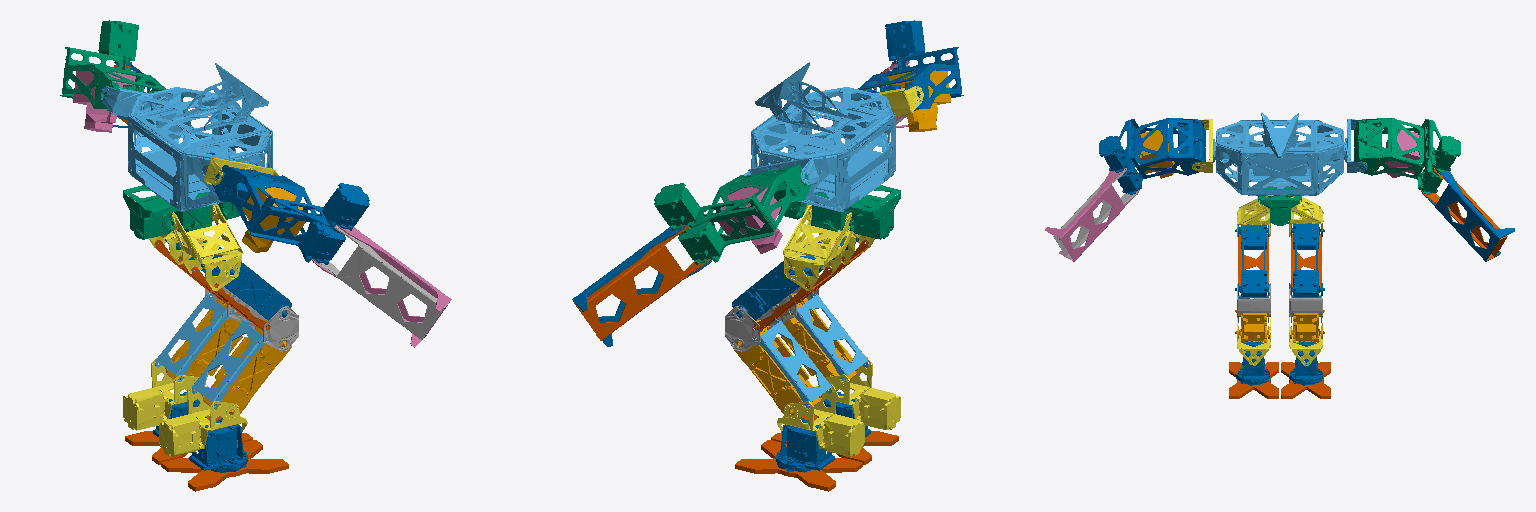
--- What the picture shows (computed from the rendered views, not written in the file) ---
3 views of the same robot in one strip: view 1: azimuth 30°, elevation 25°; view 2: azimuth 150°, elevation 25°; view 3: azimuth 270°, elevation 25° (orthographic).
Model ginko with 49 links and 48 joints (33 revolute, 15 fixed), rooted at root_link, posed all joints at 0.
Visible links, largest first — view 1: body_link0, arm_r_link1, arm_l_link1, arm_r_link3, leg_r_link6, leg_r_link0, body_link1, leg_l_link6, leg_r_link4, leg_l_link5, leg_r_link5, leg_r_link8 (+12 smaller); view 2: body_link0, arm_l_link1, arm_r_link1, arm_l_link3, body_link1, leg_l_link6, leg_l_link0, leg_r_link6, leg_l_link4, leg_l_link5, leg_r_link5, leg_l_link8 (+11 smaller); view 3: body_link0, arm_l_link1, arm_r_link1, arm_r_link2, arm_l_link2, leg_l_link1, leg_r_link1, leg_l_link8, leg_r_link8, arm_l_link3, body_link1, arm_r_link3 (+12 smaller).
Link boxes in pixels (x1,y1,x2,y2): body_link0: [128, 63, 272, 211]; arm_r_link1: [212, 165, 369, 264]; arm_l_link1: [60, 20, 165, 110]; arm_r_link3: [313, 225, 448, 339]; leg_r_link6: [159, 384, 247, 456]; leg_r_link0: [172, 204, 243, 290]; body_link1: [123, 185, 245, 239]; leg_l_link6: [123, 358, 198, 430]; leg_r_link4: [201, 320, 291, 417]; leg_l_link5: [155, 293, 233, 381]; leg_r_link5: [192, 320, 270, 408]; leg_r_link8: [161, 440, 288, 491]; body_link0: [751, 62, 895, 211]; arm_l_link1: [654, 164, 811, 264]; arm_r_link1: [858, 20, 963, 110]; arm_l_link3: [574, 225, 710, 340]; body_link1: [778, 185, 900, 239]; leg_l_link6: [777, 384, 864, 456]; leg_l_link0: [783, 205, 852, 290]; leg_r_link6: [826, 357, 900, 429]; leg_l_link4: [731, 320, 822, 414]; leg_l_link5: [753, 319, 832, 408]; leg_r_link5: [790, 293, 868, 381]; leg_l_link8: [735, 440, 862, 491]; body_link0: [1213, 113, 1346, 195]; arm_l_link1: [1354, 118, 1460, 194]; arm_r_link1: [1099, 118, 1205, 194]; arm_r_link2: [1045, 168, 1139, 261]; arm_l_link2: [1421, 168, 1514, 261]; leg_l_link1: [1291, 224, 1324, 296]; leg_r_link1: [1235, 224, 1268, 296]; leg_l_link8: [1281, 362, 1330, 398]; leg_r_link8: [1229, 362, 1278, 398]; arm_l_link3: [1422, 168, 1507, 260]; body_link1: [1258, 182, 1301, 225]; arm_r_link3: [1053, 168, 1137, 259].
Bounding box of the posed robot: 0.2246 × 0.7542 × 0.4882 m (x, y, z).
30 mesh visuals loaded from 25 distinct referenced files (25 OBJ).

robot.urdf — ginko:
<?xml version="1.0" ?>
<!-- =================================================================================== -->
<!-- |    This document was autogenerated by xacro from ./ginko.xacro                  | -->
<!-- |    EDITING THIS FILE BY HAND IS NOT RECOMMENDED                                 | -->
<!-- =================================================================================== -->
<robot name="ginko" xmlns:xacro="http://www.ros.org/wiki/xacro">
  <link name="root_link"/>
  <joint name="root_joint" type="fixed">
    <parent link="root_link"/>
    <child link="body_link0"/>
    <origin rpy="0 0 0" xyz="0 0 0"/>
  </joint>
  <!-- chest -->
  <link name="body_link0">
    <collision>
      <origin rpy="0 0 0" xyz="0 0 0"/>
      <geometry>
        <mesh filename="package://ginko_description/meshes/ginko_rs406/stl/link00_chest.stl"/>
      </geometry>
    </collision>
    <visual>
      <origin rpy="0 0 0" xyz="0 0 0"/>
      <geometry>
        <mesh filename="package://ginko_description/meshes/ginko_rs406/obj/link00_chest.obj"/>
      </geometry>
    </visual>
    <inertial>
      <mass value="1.41502697"/>
      <origin rpy="0 0 0" xyz="0.00008301 0.00000908 0.03819562"/>
      <inertia ixx="0.00248548" ixy="-0.00000074" ixz="0.000003761" iyy="0.00121388" iyz="-0.00000042" izz="0.00287756"/>
    </inertial>
  </link>
  <!-- Joint1 -->
  <joint name="body_joint1" type="revolute">
    <parent link="body_link0"/>
    <child link="body_link1"/>
    <origin rpy="0 0 0" xyz="0.0 0 0"/>
    <axis xyz="0 0 1"/>
    <limit effort="1000.0" lower="-2.6" upper="2.6" velocity="10.0"/>
    <dynamics damping="0.1" friction="0.1"/>
  </joint>
  <!-- waist -->
  <link name="body_link1">
    <collision>
      <origin rpy="0 0 0" xyz="0 0 0"/>
      <geometry>
        <mesh filename="package://ginko_description/meshes/ginko_rs406/stl/link01_waist.stl"/>
      </geometry>
    </collision>
    <visual>
      <origin rpy="0 0 0" xyz="0 0 0"/>
      <geometry>
        <mesh filename="package://ginko_description/meshes/ginko_rs406/obj/link01_waist.obj"/>
      </geometry>
    </visual>
    <inertial>
      <mass value="0.33312665"/>
      <origin rpy="0 0 0" xyz="-0.01135452 -0.00000134 -0.02720222"/>
      <inertia ixx="0.00015328" ixy="0.00000003" ixz="0.00001078" iyy="0.00073745" iyz="0.00000000" izz="0.00073107"/>
    </inertial>
  </link>
  <gazebo reference="body_link0">
    <kp>1000000.0</kp>
    <kd>100.0</kd>
    <mu1>0.1</mu1>
    <maxVel>10.0</maxVel>
    <minDepth>0.0001</minDepth>
    <maxContacts>6</maxContacts>
    <selfCollide>false</selfCollide>
    <dampingFactor>0.00</dampingFactor>
  </gazebo>
  <gazebo reference="body_joint1">
    <implicitSpringDamper>1</implicitSpringDamper>
  </gazebo>
  <transmission name="body_joint1_trans">
    <type>transmission_interface/SimpleTransmission</type>
    <joint name="body_joint1">
      <hardwareInterface>hardware_interface/PositionJointInterface</hardwareInterface>
    </joint>
    <actuator name="body_joint1_motor">
      <hardwareInterface>hardware_interface/PositionJointInterface</hardwareInterface>
      <mechanicalReduction>1</mechanicalReduction>
    </actuator>
  </transmission>
  <gazebo reference="body_link1">
    <kp>1000000.0</kp>
    <kd>100.0</kd>
    <mu1>0.1</mu1>
    <maxVel>10.0</maxVel>
    <minDepth>0.0001</minDepth>
    <maxContacts>6</maxContacts>
    <selfCollide>false</selfCollide>
    <dampingFactor>0.00</dampingFactor>
  </gazebo>
  <!-- Link conencts from body. Femoral first. -->
  <joint name="leg_r_joint0" type="revolute">
    <parent link="body_link1"/>
    <child link="leg_r_link0"/>
    <origin rpy="0 0 0" xyz="0.0205 0.0 -0.0409"/>
    <axis xyz="1 0 0"/>
    <limit effort="1000.0" lower="-1.0" upper="0.8" velocity="10.0"/>
    <dynamics damping="0.0" friction="0.3"/>
  </joint>
  <link name="leg_r_link0">
    <collision>
      <origin rpy="0 0 0" xyz="0 0 0"/>
      <geometry>
        <mesh filename="package://ginko_description/meshes/ginko_rs406/stl/link02_r_femoral.stl"/>
      </geometry>
    </collision>
    <visual>
      <origin rpy="0 0 0" xyz="0 0 0"/>
      <geometry>
        <mesh filename="package://ginko_description/meshes/ginko_rs406/obj/link02_r_femoral.obj"/>
      </geometry>
    </visual>
    <inertial>
      <mass value="0.03431457"/>
      <origin rpy="0 0 0" xyz="-0.02905818 -0.03723481 -0.02604954"/>
      <inertia ixx="0.00002441" ixy="0.00000001" ixz="0.00000021" iyy="0.00002285" iyz="0.00000391" izz="0.00002980"/>
    </inertial>
  </link>
  <!-- parallel link (upper-1st) -->
  <joint name="leg_r_joint1" type="revolute">
    <parent link="leg_r_link0"/>
    <child link="leg_r_link1"/>
    <origin rpy="0 0.7854 0" xyz="-0.0176 -0.0175 -0.0481"/>
    <axis xyz="0 1 0"/>
    <limit effort="1000.0" lower="-0.7854" upper="1.3" velocity="10.0"/>
    <dynamics damping="0.0" friction="0.3"/>
  </joint>
  <link name="leg_r_link1">
    <collision>
      <origin rpy="0 0 0" xyz="0 0 0"/>
      <geometry>
        <mesh filename="package://ginko_description/meshes/ginko_rs406/stl/link03_r_leg01.stl"/>
      </geometry>
    </collision>
    <visual>
      <origin rpy="0 0 0" xyz="0 0 0"/>
      <geometry>
        <mesh filename="package://ginko_description/meshes/ginko_rs406/obj/link03_r_leg01.obj"/>
      </geometry>
    </visual>
    <inertial>
      <mass value="0.15115113"/>
      <origin rpy="0 0 0" xyz="0.05000000 -0.02587267 0.00000000"/>
      <inertia ixx="0.00003721" ixy="0.00000000" ixz="0.00000000" iyy="0.00026035" iyz="0.00000000" izz="0.00028077"/>
    </inertial>
  </link>
  <joint name="leg_r_joint3" type="revolute">
    <parent link="leg_r_link1"/>
    <child link="leg_r_link3"/>
    <origin rpy="0 -0.7854 0" xyz="0.1 0.0 0.0"/>
    <axis xyz="0 -1 0"/>
    <limit effort="1000.0" lower="-0.7854" upper="1.3" velocity="10.0"/>
    <dynamics damping="0.0" friction="0.3"/>
    <mimic joint="leg_r_joint1" multiplier="1" offset="0"/>
  </joint>
  <!-- parallel link (upper-2nd) -->
  <joint name="leg_r_joint2" type="revolute">
    <parent link="leg_r_link0"/>
    <child link="leg_r_link2"/>
    <origin rpy="0 0.7854 0" xyz="-0.0389 -0.0175 -0.06015"/>
    <axis xyz="0 1 0"/>
    <limit effort="1000.0" lower="-0.7854" upper="1.3" velocity="10.0"/>
    <dynamics damping="0.0" friction="0.0"/>
    <mimic joint="leg_r_joint1" multiplier="1" offset="0"/>
  </joint>
  <link name="leg_r_link2">
    <collision>
      <origin rpy="0 0 0" xyz="0 0 0"/>
      <geometry>
        <mesh filename="package://ginko_description/meshes/ginko_rs406/stl/link04_r_leg02.stl"/>
      </geometry>
    </collision>
    <visual>
      <origin rpy="0 0 0" xyz="0 0 0"/>
      <geometry>
        <mesh filename="package://ginko_description/meshes/ginko_rs406/obj/link04_r_leg02.obj"/>
      </geometry>
    </visual>
    <inertial>
      <mass value="0.01646643"/>
      <origin rpy="0 0 0" xyz="0.05000000 -0.02495100 -0.00491150"/>
      <inertia ixx="0.00000640" ixy="0.00000000" ixz="0.00000000" iyy="0.00001642" iyz="0.00000000" izz="0.00002264"/>
    </inertial>
  </link>
  <joint name="close_leg_r_joint0" type="revolute">
    <parent link="leg_r_link2"/>
    <child link="dummy0_leg_r_link3"/>
    <origin rpy="0 -0.7854 0" xyz="0.1 0.0 0.0"/>
    <axis xyz="0 -1 0"/>
    <limit effort="1000.0" lower="-0.7854" upper="1.3" velocity="10.0"/>
    <dynamics damping="0.0" friction="0.0"/>
    <mimic joint="leg_r_joint1" multiplier="1" offset="0"/>
  </joint>
  <link name="dummy0_leg_r_link3">
    <inertial>
      <mass value="0.00001"/>
      <origin rpy="0 0 0" xyz="-0.021 0 -0.012"/>
      <inertia ixx="0.00000001" ixy="0.00000000" ixz="0.00000000" iyy="0.00000001" iyz="0.00000000" izz="0.00000001"/>
    </inertial>
  </link>
  <!-- knee -->
  <link name="leg_r_link3">
    <collision>
      <origin rpy="0 0 0" xyz="0 0 0"/>
      <geometry>
        <mesh filename="package://ginko_description/meshes/ginko_rs406/stl/link05_r_knee.stl"/>
      </geometry>
    </collision>
    <visual>
      <origin rpy="0 0 0" xyz="0 0 0"/>
      <geometry>
        <mesh filename="package://ginko_description/meshes/ginko_rs406/obj/link05_r_knee.obj"/>
      </geometry>
    </visual>
    <inertial>
      <mass value="0.01781176"/>
      <origin rpy="0 0 0" xyz="0.00393357 -0.02364163 -0.01930000"/>
      <inertia ixx="0.00001301" ixy="-0.00000008" ixz="0.00000000" iyy="0.00000700" iyz="0.00000000" izz="0.00001388"/>
    </inertial>
  </link>
  <!-- parallel link (lower-1st) -->
  <joint name="leg_r_joint4" type="revolute">
    <parent link="leg_r_link3"/>
    <child link="leg_r_link4"/>
    <origin rpy="0 2.3562 0" xyz="0 0 -0.0386"/>
    <axis xyz="0 1 0"/>
    <limit effort="1000.0" lower="-1.3" upper="0.7854" velocity="10.0"/>
    <dynamics damping="0.0" friction="0.3"/>
  </joint>
  <link name="leg_r_link4">
    <collision>
      <origin rpy="0 0 0" xyz="0 0 0"/>
      <geometry>
        <mesh filename="package://ginko_description/meshes/ginko_rs406/stl/link03_r_leg01.stl"/>
      </geometry>
    </collision>
    <visual>
      <origin rpy="0 0 0" xyz="0 0 0"/>
      <geometry>
        <mesh filename="package://ginko_description/meshes/ginko_rs406/obj/link03_r_leg01.obj"/>
      </geometry>
    </visual>
    <inertial>
      <mass value="0.15115113"/>
      <origin rpy="0 0 0" xyz="0.05000000 -0.02587267 0.00000000"/>
      <inertia ixx="0.00003721" ixy="0.00000000" ixz="0.00000000" iyy="0.00026035" iyz="0.00000000" izz="0.00028077"/>
    </inertial>
  </link>
  <joint name="leg_r_joint6" type="revolute">
    <parent link="leg_r_link4"/>
    <child link="leg_r_link6"/>
    <origin rpy="0 -2.3562 0" xyz="0.1 0.0 0.0"/>
    <axis xyz="0 -1 0"/>
    <limit effort="1000.0" lower="-1.3" upper="0.7854" velocity="10.0"/>
    <dynamics damping="0.0" friction="0.3"/>
    <mimic joint="leg_r_joint4" multiplier="1" offset="0"/>
  </joint>
  <!-- parallel link (lower-2nd) -->
  <joint name="leg_r_joint5" type="revolute">
    <parent link="leg_r_link3"/>
    <child link="leg_r_link5"/>
    <origin rpy="0 2.3562 0" xyz="-0.0213 0 -0.02655"/>
    <axis xyz="0 1 0"/>
    <limit effort="0.0" lower="-1.3" upper="0.7854" velocity="10.0"/>
    <dynamics damping="0.0" friction="0.0"/>
    <mimic joint="leg_r_joint4" multiplier="1" offset="0"/>
  </joint>
  <link name="leg_r_link5">
    <collision>
      <origin rpy="0 0 0" xyz="0 0 0"/>
      <geometry>
        <mesh filename="package://ginko_description/meshes/ginko_rs406/stl/link04_r_leg02.stl"/>
      </geometry>
    </collision>
    <visual>
      <origin rpy="0 0 0" xyz="0 0 0"/>
      <geometry>
        <mesh filename="package://ginko_description/meshes/ginko_rs406/obj/link04_r_leg02.obj"/>
      </geometry>
    </visual>
    <inertial>
      <mass value="0.01646643"/>
      <origin rpy="0 0 0" xyz="0.05000000 -0.02495100 -0.00491150"/>
      <inertia ixx="0.00000640" ixy="0.00000000" ixz="0.00000000" iyy="0.00001642" iyz="0.00000000" izz="0.00002264"/>
    </inertial>
  </link>
  <joint name="close_leg_r_joint1" type="revolute">
    <parent link="leg_r_link5"/>
    <child link="dummy2_leg_r_link6"/>
    <origin rpy="0 -2.3562 0" xyz="0.1 0.0 0.0"/>
    <axis xyz="0 -1 0"/>
    <limit effort="0.0" lower="-1.3" upper="0.7854" velocity="10.0"/>
    <dynamics damping="0.0" friction="0.0"/>
    <mimic joint="leg_r_joint4" multiplier="1" offset="0"/>
  </joint>
  <link name="dummy2_leg_r_link6">
    <inertial>
      <mass value="0.00001"/>
      <origin rpy="0 0 0" xyz="-0.021 0 0.012"/>
      <inertia ixx="0.00000001" ixy="0.00000000" ixz="0.00000000" iyy="0.00000001" iyz="0.00000000" izz="0.00000001"/>
    </inertial>
  </link>
  <!-- toe -->
  <link name="leg_r_link6">
    <collision>
      <origin rpy="0 0 0" xyz="0 0 0"/>
      <geometry>
        <mesh filename="package://ginko_description/meshes/ginko_rs406/stl/link06_r_toe01.stl"/>
      </geometry>
    </collision>
    <visual>
      <origin rpy="0 0 0" xyz="0 0 0"/>
      <geometry>
        <mesh filename="package://ginko_description/meshes/ginko_rs406/obj/link06_r_toe01.obj"/>
      </geometry>
    </visual>
    <inertial>
      <mass value="0.08799204"/>
      <origin rpy="0 0 0" xyz="-0.04166125 -0.02463880 -0.02586249"/>
      <inertia ixx="0.00002815" ixy="0.00000041" ixz="0.00000980" iyy="0.00006846" iyz="0.00000026" izz="0.00006529"/>
    </inertial>
  </link>
  <joint name="leg_r_joint7" type="revolute">
    <parent link="leg_r_link6"/>
    <child link="leg_r_link7"/>
    <origin rpy="0 0 0" xyz="-0.028 -0.02475 -0.0391"/>
    <axis xyz="-1 0 0"/>
    <limit effort="1000.0" lower="-1.6" upper="1.6" velocity="10.0"/>
    <dynamics damping="0.0" friction="0.3"/>
  </joint>
  <link name="leg_r_link7">
    <collision>
      <origin rpy="0 0 0" xyz="0 0 0"/>
      <geometry>
        <mesh filename="package://ginko_description/meshes/ginko_rs406/stl/link07_r_toe02.stl"/>
      </geometry>
    </collision>
    <visual>
      <origin rpy="0 0 0" xyz="0 0 0"/>
      <geometry>
        <mesh filename="package://ginko_description/meshes/ginko_rs406/obj/link07_r_toe02.obj"/>
      </geometry>
    </visual>
    <inertial>
      <mass value="0.10920041"/>
      <origin rpy="0 0 0" xyz="0.02658756 -0.00000053 -0.01782468"/>
      <inertia ixx="0.00003853" ixy="0.00000000" ixz="-0.00000479" iyy="0.00005192" iyz="0.00000000" izz="0.00003521"/>
    </inertial>
  </link>
  <joint name="leg_r_joint8" type="revolute">
    <parent link="leg_r_link7"/>
    <child link="leg_r_link8"/>
    <origin rpy="0 0 0" xyz="0.0342 0 -0.04"/>
    <axis xyz="0 0 1"/>
    <limit effort="1000.0" lower="-2.6" upper="2.6" velocity="10.0"/>
    <dynamics damping="0.0" friction="0.3"/>
  </joint>
  <link name="leg_r_link8">
    <collision>
      <origin rpy="0 0 0" xyz="0 0 -0.003"/>
      <geometry>
        <box size="0.128 0.08 0.006"/>
      </geometry>
    </collision>
    <visual>
      <origin rpy="0 0 0" xyz="0 0 0"/>
      <geometry>
        <mesh filename="package://ginko_description/meshes/ginko_rs406/obj/link08_r_toe03.obj"/>
      </geometry>
    </visual>
    <inertial>
      <mass value="0.05363111"/>
      <origin rpy="0 0 0" xyz="0.00000000 0.00000000 -0.00269342"/>
      <inertia ixx="0.00002877" ixy="0.00000000" ixz="0.00000000" iyy="0.00007083" iyz="-0.00000000" izz="0.00009934"/>
    </inertial>
  </link>
  <joint name="leg_r_toe_joint0" type="fixed">
    <parent link="leg_r_link8"/>
    <child link="leg_r_toe_link0"/>
    <origin rpy="0 0 0" xyz="0.064 0.040 -0.005"/>
  </joint>
  <link name="leg_r_toe_link0"/>
  <joint name="leg_r_toe_joint1" type="fixed">
    <parent link="leg_r_link8"/>
    <child link="leg_r_toe_link1"/>
    <origin rpy="0 0 0" xyz="-0.064 0.040 -0.005"/>
  </joint>
  <link name="leg_r_toe_link1"/>
  <joint name="leg_r_toe_joint2" type="fixed">
    <parent link="leg_r_link8"/>
    <child link="leg_r_toe_link2"/>
    <origin rpy="0 0 0" xyz="-0.064 -0.040 -0.005"/>
  </joint>
  <link name="leg_r_toe_link2"/>
  <joint name="leg_r_toe_joint3" type="fixed">
    <parent link="leg_r_link8"/>
    <child link="leg_r_toe_link3"/>
    <origin rpy="0 0 0" xyz="0.064 -0.040 -0.005"/>
  </joint>
  <link name="leg_r_toe_link3"/>
  <joint name="leg_r_toe_center_joint" type="fixed">
    <parent link="leg_r_link8"/>
    <child link="leg_r_toe_center"/>
    <origin rpy="0 0 0" xyz="0.0 0.0 -0.005"/>
  </joint>
  <link name="leg_r_toe_center"/>
  <gazebo reference="leg_r_link0">
    <kp>1000000.0</kp>
    <kd>100.0</kd>
    <mu1>0.2</mu1>
    <maxVel>10.0</maxVel>
    <minDepth>0.0001</minDepth>
    <maxContacts>6</maxContacts>
    <selfCollide>false</selfCollide>
    <dampingFactor>0.00</dampingFactor>
  </gazebo>
  <gazebo reference="leg_r_link1">
    <kp>1000000.0</kp>
    <kd>100.0</kd>
    <mu1>0.2</mu1>
    <maxVel>10.0</maxVel>
    <minDepth>0.0001</minDepth>
    <maxContacts>6</maxContacts>
    <selfCollide>false</selfCollide>
    <dampingFactor>0.00</dampingFactor>
  </gazebo>
  <gazebo reference="leg_r_link3">
    <kp>1000000.0</kp>
    <kd>100.0</kd>
    <mu1>0.2</mu1>
    <maxVel>10.0</maxVel>
    <minDepth>0.0001</minDepth>
    <maxContacts>6</maxContacts>
    <selfCollide>false</selfCollide>
    <dampingFactor>0.00</dampingFactor>
  </gazebo>
  <gazebo reference="leg_r_link4">
    <kp>1000000.0</kp>
    <kd>100.0</kd>
    <mu1>0.2</mu1>
    <maxVel>10.0</maxVel>
    <minDepth>0.0001</minDepth>
    <maxContacts>6</maxContacts>
    <selfCollide>false</selfCollide>
    <dampingFactor>0.00</dampingFactor>
  </gazebo>
  <gazebo reference="leg_r_link6">
    <kp>1000000.0</kp>
    <kd>100.0</kd>
    <mu1>0.2</mu1>
    <maxVel>10.0</maxVel>
    <minDepth>0.0001</minDepth>
    <maxContacts>6</maxContacts>
    <selfCollide>false</selfCollide>
    <dampingFactor>0.00</dampingFactor>
  </gazebo>
  <gazebo reference="leg_r_link7">
    <kp>1000000.0</kp>
    <kd>100.0</kd>
    <mu1>0.2</mu1>
    <maxVel>10.0</maxVel>
    <minDepth>0.0001</minDepth>
    <maxContacts>6</maxContacts>
    <selfCollide>false</selfCollide>
    <dampingFactor>0.00</dampingFactor>
  </gazebo>
  <!-- <xacro:default_link_collision link_name="leg_r_link8" friction="1.0"/> -->
  <gazebo reference="leg_r_link8">
    <kp>2000000.0</kp>
    <kd>200.0</kd>
    <mu1>1.0</mu1>
    <maxVel>1.0</maxVel>
    <minDepth>0.0001</minDepth>
    <maxContacts>5</maxContacts>
    <selfCollide>true</selfCollide>
    <dampingFactor>0.0</dampingFactor>
  </gazebo>
  <gazebo reference="leg_r_joint0">
    <implicitSpringDamper>1</implicitSpringDamper>
  </gazebo>
  <transmission name="leg_r_joint0_trans">
    <type>transmission_interface/SimpleTransmission</type>
    <joint name="leg_r_joint0">
      <hardwareInterface>hardware_interface/PositionJointInterface</hardwareInterface>
    </joint>
    <actuator name="leg_r_joint0_motor">
      <hardwareInterface>hardware_interface/PositionJointInterface</hardwareInterface>
      <mechanicalReduction>1</mechanicalReduction>
    </actuator>
  </transmission>
  <gazebo reference="leg_r_joint1">
    <implicitSpringDamper>1</implicitSpringDamper>
  </gazebo>
  <transmission name="leg_r_joint1_trans">
    <type>transmission_interface/SimpleTransmission</type>
    <joint name="leg_r_joint1">
      <hardwareInterface>hardware_interface/PositionJointInterface</hardwareInterface>
    </joint>
    <actuator name="leg_r_joint1_motor">
      <hardwareInterface>hardware_interface/PositionJointInterface</hardwareInterface>
      <mechanicalReduction>1</mechanicalReduction>
    </actuator>
  </transmission>
  <gazebo reference="leg_r_joint3">
    <implicitSpringDamper>1</implicitSpringDamper>
  </gazebo>
  <transmission name="leg_r_joint3_trans">
    <type>transmission_interface/SimpleTransmission</type>
    <joint name="leg_r_joint3">
      <hardwareInterface>hardware_interface/PositionJointInterface</hardwareInterface>
    </joint>
    <actuator name="leg_r_joint3_motor">
      <hardwareInterface>hardware_interface/PositionJointInterface</hardwareInterface>
      <mechanicalReduction>1</mechanicalReduction>
    </actuator>
  </transmission>
  <gazebo reference="leg_r_joint4">
    <implicitSpringDamper>1</implicitSpringDamper>
  </gazebo>
  <transmission name="leg_r_joint4_trans">
    <type>transmission_interface/SimpleTransmission</type>
    <joint name="leg_r_joint4">
      <hardwareInterface>hardware_interface/PositionJointInterface</hardwareInterface>
    </joint>
    <actuator name="leg_r_joint4_motor">
      <hardwareInterface>hardware_interface/PositionJointInterface</hardwareInterface>
      <mechanicalReduction>1</mechanicalReduction>
    </actuator>
  </transmission>
  <gazebo reference="leg_r_joint6">
    <implicitSpringDamper>1</implicitSpringDamper>
  </gazebo>
  <transmission name="leg_r_joint6_trans">
    <type>transmission_interface/SimpleTransmission</type>
    <joint name="leg_r_joint6">
      <hardwareInterface>hardware_interface/PositionJointInterface</hardwareInterface>
    </joint>
    <actuator name="leg_r_joint6_motor">
      <hardwareInterface>hardware_interface/PositionJointInterface</hardwareInterface>
      <mechanicalReduction>1</mechanicalReduction>
    </actuator>
  </transmission>
  <gazebo reference="leg_r_joint7">
    <implicitSpringDamper>1</implicitSpringDamper>
  </gazebo>
  <transmission name="leg_r_joint7_trans">
    <type>transmission_interface/SimpleTransmission</type>
    <joint name="leg_r_joint7">
      <hardwareInterface>hardware_interface/PositionJointInterface</hardwareInterface>
    </joint>
    <actuator name="leg_r_joint7_motor">
      <hardwareInterface>hardware_interface/PositionJointInterface</hardwareInterface>
      <mechanicalReduction>1</mechanicalReduction>
    </actuator>
  </transmission>
  <gazebo reference="leg_r_joint8">
    <implicitSpringDamper>1</implicitSpringDamper>
  </gazebo>
  <transmission name="leg_r_joint8_trans">
    <type>transmission_interface/SimpleTransmission</type>
    <joint name="leg_r_joint8">
      <hardwareInterface>hardware_interface/PositionJointInterface</hardwareInterface>
    </joint>
    <actuator name="leg_r_joint8_motor">
      <hardwareInterface>hardware_interface/PositionJointInterface</hardwareInterface>
      <mechanicalReduction>1</mechanicalReduction>
    </actuator>
  </transmission>
  <!-- Link conencts from body. Femoral first. -->
  <joint name="leg_l_joint0" type="revolute">
    <parent link="body_link1"/>
    <child link="leg_l_link0"/>
    <origin rpy="0 0 0" xyz="-0.0404 0.0 -0.0409"/>
    <axis xyz="-1 0 0"/>
    <limit effort="1000.0" lower="-0.8" upper="1.0" velocity="10.0"/>
    <dynamics damping="0.0" friction="0.3"/>
  </joint>
  <link name="leg_l_link0">
    <collision>
      <origin rpy="0 0 0" xyz="0 0 0"/>
      <geometry>
        <mesh filename="package://ginko_description/meshes/ginko_rs406/stl/link02_l_femoral.stl"/>
      </geometry>
    </collision>
    <visual>
      <origin rpy="0 0 0" xyz="0 0 0"/>
      <geometry>
        <mesh filename="package://ginko_description/meshes/ginko_rs406/obj/link02_l_femoral.obj"/>
      </geometry>
    </visual>
    <inertial>
      <mass value="0.03433352"/>
      <origin rpy="0 0 0" xyz="0.02930795 0.03723759 -0.02605386"/>
      <inertia ixx="0.00002443" ixy="-0.00000021" ixz="-0.00000021" iyy="0.00002287" iyz="-0.00000391" izz="0.00002983"/>
    </inertial>
  </link>
  <!-- parallel link (upper-1st) -->
  <joint name="leg_l_joint1" type="revolute">
    <parent link="leg_l_link0"/>
    <child link="leg_l_link1"/>
    <origin rpy="0 0.7854 0" xyz="0.0433 0.0175 -0.0481"/>
    <axis xyz="0 -1 0"/>
    <limit effort="1000.0" lower="-1.3" upper="0.7854" velocity="10.0"/>
    <dynamics damping="0.0" friction="0.3"/>
  </joint>
  <link name="leg_l_link1">
    <collision>
      <origin rpy="0 0 0" xyz="0 0 0"/>
      <geometry>
        <mesh filename="package://ginko_description/meshes/ginko_rs406/stl/link03_l_leg01.stl"/>
      </geometry>
    </collision>
    <visual>
      <origin rpy="0 0 0" xyz="0 0 0"/>
      <geometry>
        <mesh filename="package://ginko_description/meshes/ginko_rs406/obj/link03_l_leg01.obj"/>
      </geometry>
    </visual>
    <inertial>
      <mass value="0.15115113"/>
      <origin rpy="0 0 0" xyz="0.05000000 0.02587267 0.00000000"/>
      <inertia ixx="0.00003721" ixy="0.00000000" ixz="0.00000000" iyy="0.00026035" iyz="0.00000000" izz="0.00028077"/>
    </inertial>
  </link>
  <joint name="leg_l_joint3" type="revolute">
    <parent link="leg_l_link1"/>
    <child link="leg_l_link3"/>
    <origin rpy="0 -0.7854 0" xyz="0.1 0.0 0.0"/>
    <axis xyz="0 1 0"/>
    <limit effort="1000.0" lower="-1.3" upper="0.7854" velocity="10.0"/>
    <dynamics damping="0.0" friction="0.3"/>
    <mimic joint="leg_l_joint1" multiplier="1" offset="0"/>
  </joint>
  <!-- parallel link (upper-2nd) -->
  <joint name="leg_l_joint2" type="revolute">
    <parent link="leg_l_link0"/>
    <child link="leg_l_link2"/>
    <origin rpy="0 0.7854 0" xyz="0.022 0.0175 -0.06015"/>
    <axis xyz="0 -1 0"/>
    <limit effort="1000.0" lower="-1.3" upper="0.7854" velocity="10.0"/>
    <dynamics damping="0.0" friction="0.3"/>
    <mimic joint="leg_l_joint1" multiplier="1" offset="0"/>
  </joint>
  <link name="leg_l_link2">
    <collision>
      <origin rpy="0 0 0" xyz="0 0 0"/>
      <geometry>
        <mesh filename="package://ginko_description/meshes/ginko_rs406/stl/link04_l_leg02.stl"/>
      </geometry>
    </collision>
    <visual>
      <origin rpy="0 0 0" xyz="0 0 0"/>
      <geometry>
        <mesh filename="package://ginko_description/meshes/ginko_rs406/obj/link04_l_leg02.obj"/>
      </geometry>
    </visual>
    <inertial>
      <mass value="0.01646643"/>
      <origin rpy="0 0 0" xyz="0.05000000 0.02495100 -0.00491150"/>
      <inertia ixx="0.00000640" ixy="0.00000000" ixz="0.00000000" iyy="0.00001642" iyz="0.00000000" izz="0.00002264"/>
    </inertial>
  </link>
  <joint name="close_leg_l_joint0" type="revolute">
    <parent link="leg_l_link2"/>
    <child link="dummy0_leg_l_link3"/>
    <origin rpy="0 -0.7854 0" xyz="0.1 0.0 0.0"/>
    <axis xyz="0 1 0"/>
    <limit effort="1000.0" lower="-1.3" upper="0.7854" velocity="10.0"/>
    <dynamics damping="0.0" friction="0.0"/>
    <mimic joint="leg_l_joint1" multiplier="1" offset="0"/>
  </joint>
  <link name="dummy0_leg_l_link3">
    <inertial>
      <mass value="0.00001"/>
      <origin rpy="0 0 0" xyz="-0.021 0 -0.012"/>
      <inertia ixx="0.00000001" ixy="0.00000000" ixz="0.00000000" iyy="0.00000001" iyz="0.00000000" izz="0.00000001"/>
    </inertial>
  </link>
  <!-- knee -->
  <link name="leg_l_link3">
    <collision>
      <origin rpy="0 0 0" xyz="0 0 0"/>
      <geometry>
        <mesh filename="package://ginko_description/meshes/ginko_rs406/stl/link05_l_knee.stl"/>
      </geometry>
    </collision>
    <visual>
      <origin rpy="0 0 0" xyz="0 0 0"/>
      <geometry>
        <mesh filename="package://ginko_description/meshes/ginko_rs406/obj/link05_l_knee.obj"/>
      </geometry>
    </visual>
    <inertial>
      <mass value="0.01781176"/>
      <origin rpy="0 0 0" xyz="0.00393357 0.02364163 -0.01930000"/>
      <inertia ixx="0.00001301" ixy="0.00000008" ixz="0.00000000" iyy="0.00000700" iyz="0.00000000" izz="0.00001388"/>
    </inertial>
  </link>
  <!-- parallel link (lower-1st) -->
  <joint name="leg_l_joint4" type="revolute">
    <parent link="leg_l_link3"/>
    <child link="leg_l_link4"/>
    <origin rpy="0 2.3562 0" xyz="0 0 -0.0386"/>
    <axis xyz="0 -1 0"/>
    <limit effort="1000.0" lower="-0.7854" upper="1.3" velocity="10.0"/>
    <dynamics damping="0.0" friction="0.3"/>
  </joint>
  <link name="leg_l_link4">
    <collision>
      <origin rpy="0 0 0" xyz="0 0 0"/>
      <geometry>
        <mesh filename="package://ginko_description/meshes/ginko_rs406/stl/link03_l_leg01.stl"/>
      </geometry>
    </collision>
    <visual>
      <origin rpy="0 0 0" xyz="0 0 0"/>
      <geometry>
        <mesh filename="package://ginko_description/meshes/ginko_rs406/obj/link03_l_leg01.obj"/>
      </geometry>
    </visual>
    <inertial>
      <mass value="0.15115113"/>
      <origin rpy="0 0 0" xyz="0.05000000 0.02587267 0.00000000"/>
      <inertia ixx="0.00003721" ixy="0.00000000" ixz="0.00000000" iyy="0.00026035" iyz="0.00000000" izz="0.00028077"/>
    </inertial>
  </link>
  <joint name="leg_l_joint6" type="revolute">
    <parent link="leg_l_link4"/>
    <child link="leg_l_link6"/>
    <origin rpy="0 -2.3562 0" xyz="0.1 0.0 0.0"/>
    <axis xyz="0 1 0"/>
    <limit effort="1000.0" lower="-0.7854" upper="1.3" velocity="10.0"/>
    <dynamics damping="0.0" friction="0.3"/>
    <mimic joint="leg_l_joint4" multiplier="1" offset="0"/>
  </joint>
  <!-- parallel link (lower-2nd) -->
  <joint name="leg_l_joint5" type="revolute">
    <parent link="leg_l_link3"/>
    <child link="leg_l_link5"/>
    <origin rpy="0 2.3562 0" xyz="-0.0213 0 -0.02655"/>
    <axis xyz="0 -1 0"/>
    <limit effort="0.0" lower="-0.7854" upper="1.3" velocity="10.0"/>
    <dynamics damping="0.0" friction="0.0"/>
    <mimic joint="leg_l_joint4" multiplier="1" offset="0"/>
  </joint>
  <link name="leg_l_link5">
    <collision>
      <origin rpy="0 0 0" xyz="0 0 0"/>
      <geometry>
        <mesh filename="package://ginko_description/meshes/ginko_rs406/stl/link04_l_leg02.stl"/>
      </geometry>
    </collision>
    <visual>
      <origin rpy="0 0 0" xyz="0 0 0"/>
      <geometry>
        <mesh filename="package://ginko_description/meshes/ginko_rs406/obj/link04_l_leg02.obj"/>
      </geometry>
    </visual>
    <inertial>
      <mass value="0.01646643"/>
      <origin rpy="0 0 0" xyz="0.05000000 0.02495100 -0.00491150"/>
      <inertia ixx="0.00000640" ixy="0.00000000" ixz="0.00000000" iyy="0.00001642" iyz="0.00000000" izz="0.00002264"/>
    </inertial>
  </link>
  <joint name="close_leg_l_joint1" type="revolute">
    <parent link="leg_l_link5"/>
    <child link="dummy2_leg_l_link6"/>
    <origin rpy="0 -2.3562 0" xyz="0.1 0.0 0.0"/>
    <axis xyz="0 1 0"/>
    <limit effort="0.0" lower="-1.3" upper="0.7854" velocity="10.0"/>
    <dynamics damping="0.0" friction="0.0"/>
    <mimic joint="leg_l_joint4" multiplier="1" offset="0"/>
  </joint>
  <link name="dummy2_leg_l_link6">
    <inertial>
      <mass value="0.00001"/>
      <origin rpy="0 0 0" xyz="-0.021 0 0.012"/>
      <inertia ixx="0.00000001" ixy="0.00000000" ixz="0.00000000" iyy="0.00000001" iyz="0.00000000" izz="0.00000001"/>
    </inertial>
  </link>
  <!-- toe -->
  <link name="leg_l_link6">
    <collision>
      <origin rpy="0 0 0" xyz="0 0 0"/>
      <geometry>
        <mesh filename="package://ginko_description/meshes/ginko_rs406/stl/link06_l_toe01.stl"/>
      </geometry>
    </collision>
    <visual>
      <origin rpy="0 0 0" xyz="0 0 0"/>
      <geometry>
        <mesh filename="package://ginko_description/meshes/ginko_rs406/obj/link06_l_toe01.obj"/>
      </geometry>
    </visual>
    <inertial>
      <mass value="0.08799204"/>
      <origin rpy="0 0 0" xyz="-0.04166125 0.02463880 -0.02586249"/>
      <inertia ixx="0.00002815" ixy="-0.00000041" ixz="0.00000980" iyy="0.00006846" iyz="-0.00000026" izz="0.00006529"/>
    </inertial>
  </link>
  <joint name="leg_l_joint7" type="revolute">
    <parent link="leg_l_link6"/>
    <child link="leg_l_link7"/>
    <origin rpy="0 0 0" xyz="-0.028 0.02475 -0.0391"/>
    <axis xyz="-1 0 0"/>
    <limit effort="1000.0" lower="-1.6" upper="1.6" velocity="10.0"/>
    <dynamics damping="0.0" friction="0.3"/>
  </joint>
  <link name="leg_l_link7">
    <collision>
      <origin rpy="0 0 0" xyz="0 0 0"/>
      <geometry>
        <mesh filename="package://ginko_description/meshes/ginko_rs406/stl/link07_l_toe02.stl"/>
      </geometry>
    </collision>
    <visual>
      <origin rpy="0 0 0" xyz="0 0 0"/>
      <geometry>
        <mesh filename="package://ginko_description/meshes/ginko_rs406/obj/link07_l_toe02.obj"/>
      </geometry>
    </visual>
    <inertial>
      <mass value="0.10920041"/>
      <origin rpy="0 0 0" xyz="0.02658756 0.00000053 -0.01782468"/>
      <inertia ixx="0.00003853" ixy="0.00000000" ixz="-0.00000479" iyy="0.00005192" iyz="0.00000000" izz="0.00003521"/>
    </inertial>
  </link>
  <joint name="leg_l_joint8" type="revolute">
    <parent link="leg_l_link7"/>
    <child link="leg_l_link8"/>
    <origin rpy="0 0 0" xyz="0.0342 0 -0.04"/>
    <axis xyz="0 0 1"/>
    <limit effort="1000.0" lower="-2.6" upper="2.6" velocity="10.0"/>
    <dynamics damping="0.0" friction="0.3"/>
  </joint>
  <link name="leg_l_link8">
    <collision>
      <origin rpy="0 0 0" xyz="0 0 -0.003"/>
      <geometry>
        <box size="0.128 0.08 0.006"/>
      </geometry>
    </collision>
    <visual>
      <origin rpy="0 0 0" xyz="0 0 0"/>
      <geometry>
        <mesh filename="package://ginko_description/meshes/ginko_rs406/obj/link08_l_toe03.obj"/>
      </geometry>
    </visual>
    <inertial>
      <mass value="0.05363111"/>
      <origin rpy="0 0 0" xyz="0.00000000 0.00000000 -0.00269342"/>
      <inertia ixx="0.00002877" ixy="0.00000000" ixz="0.00000000" iyy="0.00007083" iyz="-0.00000000" izz="0.00009934"/>
    </inertial>
  </link>
  <joint name="leg_l_toe_joint0" type="fixed">
    <parent link="leg_l_link8"/>
    <child link="leg_l_toe_link0"/>
    <origin rpy="0 0 0" xyz="0.064 0.040 -0.005"/>
  </joint>
  <link name="leg_l_toe_link0"/>
  <joint name="leg_l_toe_joint1" type="fixed">
    <parent link="leg_l_link8"/>
    <child link="leg_l_toe_link1"/>
    <origin rpy="0 0 0" xyz="-0.064 0.040 -0.005"/>
  </joint>
  <link name="leg_l_toe_link1"/>
  <joint name="leg_l_toe_joint2" type="fixed">
    <parent link="leg_l_link8"/>
    <child link="leg_l_toe_link2"/>
    <origin rpy="0 0 0" xyz="-0.064 -0.040 -0.005"/>
  </joint>
  <link name="leg_l_toe_link2"/>
  <joint name="leg_l_toe_joint3" type="fixed">
    <parent link="leg_l_link8"/>
    <child link="leg_l_toe_link3"/>
    <origin rpy="0 0 0" xyz="0.064 -0.040 -0.005"/>
  </joint>
  <link name="leg_l_toe_link3"/>
  <joint name="leg_l_toe_center_joint" type="fixed">
    <parent link="leg_l_link8"/>
    <child link="leg_l_toe_center"/>
    <origin rpy="0 0 0" xyz="0.0 0.0 -0.005"/>
  </joint>
  <link name="leg_l_toe_center"/>
  <gazebo reference="leg_l_link0">
    <kp>1000000.0</kp>
    <kd>100.0</kd>
    <mu1>0.1</mu1>
    <maxVel>10.0</maxVel>
    <minDepth>0.0001</minDepth>
    <maxContacts>6</maxContacts>
    <selfCollide>false</selfCollide>
    <dampingFactor>0.00</dampingFactor>
  </gazebo>
  <gazebo reference="leg_l_link1">
    <kp>1000000.0</kp>
    <kd>100.0</kd>
    <mu1>0.1</mu1>
    <maxVel>10.0</maxVel>
    <minDepth>0.0001</minDepth>
    <maxContacts>6</maxContacts>
    <selfCollide>false</selfCollide>
    <dampingFactor>0.00</dampingFactor>
  </gazebo>
  <gazebo reference="leg_l_link3">
    <kp>1000000.0</kp>
    <kd>100.0</kd>
    <mu1>0.1</mu1>
    <maxVel>10.0</maxVel>
    <minDepth>0.0001</minDepth>
    <maxContacts>6</maxContacts>
    <selfCollide>false</selfCollide>
    <dampingFactor>0.00</dampingFactor>
  </gazebo>
  <gazebo reference="leg_l_link4">
    <kp>1000000.0</kp>
    <kd>100.0</kd>
    <mu1>0.1</mu1>
    <maxVel>10.0</maxVel>
    <minDepth>0.0001</minDepth>
    <maxContacts>6</maxContacts>
    <selfCollide>false</selfCollide>
    <dampingFactor>0.00</dampingFactor>
  </gazebo>
  <gazebo reference="leg_l_link6">
    <kp>1000000.0</kp>
    <kd>100.0</kd>
    <mu1>0.1</mu1>
    <maxVel>10.0</maxVel>
    <minDepth>0.0001</minDepth>
    <maxContacts>6</maxContacts>
    <selfCollide>false</selfCollide>
    <dampingFactor>0.00</dampingFactor>
  </gazebo>
  <gazebo reference="leg_l_link7">
    <kp>1000000.0</kp>
    <kd>100.0</kd>
    <mu1>0.1</mu1>
    <maxVel>10.0</maxVel>
    <minDepth>0.0001</minDepth>
    <maxContacts>6</maxContacts>
    <selfCollide>false</selfCollide>
    <dampingFactor>0.00</dampingFactor>
  </gazebo>
  <!-- <xacro:default_link_collision link_name="leg_l_link8" friction="1.0"/> -->
  <gazebo reference="leg_l_link8">
    <kp>2000000.0</kp>
    <kd>200.0</kd>
    <mu1>1.0</mu1>
    <maxVel>10.0</maxVel>
    <minDepth>0.0001</minDepth>
    <maxContacts>5</maxContacts>
    <selfCollide>true</selfCollide>
    <dampingFactor>0.0</dampingFactor>
  </gazebo>
  <gazebo reference="leg_l_joint0">
    <implicitSpringDamper>1</implicitSpringDamper>
  </gazebo>
  <transmission name="leg_l_joint0_trans">
    <type>transmission_interface/SimpleTransmission</type>
    <joint name="leg_l_joint0">
      <hardwareInterface>hardware_interface/PositionJointInterface</hardwareInterface>
    </joint>
    <actuator name="leg_l_joint0_motor">
      <hardwareInterface>hardware_interface/PositionJointInterface</hardwareInterface>
      <mechanicalReduction>1</mechanicalReduction>
    </actuator>
  </transmission>
  <gazebo reference="leg_l_joint1">
    <implicitSpringDamper>1</implicitSpringDamper>
  </gazebo>
  <transmission name="leg_l_joint1_trans">
    <type>transmission_interface/SimpleTransmission</type>
    <joint name="leg_l_joint1">
      <hardwareInterface>hardware_interface/PositionJointInterface</hardwareInterface>
    </joint>
    <actuator name="leg_l_joint1_motor">
      <hardwareInterface>hardware_interface/PositionJointInterface</hardwareInterface>
      <mechanicalReduction>1</mechanicalReduction>
    </actuator>
  </transmission>
  <gazebo reference="leg_l_joint3">
    <implicitSpringDamper>1</implicitSpringDamper>
  </gazebo>
  <transmission name="leg_l_joint3_trans">
    <type>transmission_interface/SimpleTransmission</type>
    <joint name="leg_l_joint3">
      <hardwareInterface>hardware_interface/PositionJointInterface</hardwareInterface>
    </joint>
    <actuator name="leg_l_joint3_motor">
      <hardwareInterface>hardware_interface/PositionJointInterface</hardwareInterface>
      <mechanicalReduction>1</mechanicalReduction>
    </actuator>
  </transmission>
  <gazebo reference="leg_l_joint4">
    <implicitSpringDamper>1</implicitSpringDamper>
  </gazebo>
  <transmission name="leg_l_joint4_trans">
    <type>transmission_interface/SimpleTransmission</type>
    <joint name="leg_l_joint4">
      <hardwareInterface>hardware_interface/PositionJointInterface</hardwareInterface>
    </joint>
    <actuator name="leg_l_joint4_motor">
      <hardwareInterface>hardware_interface/PositionJointInterface</hardwareInterface>
      <mechanicalReduction>1</mechanicalReduction>
    </actuator>
  </transmission>
  <gazebo reference="leg_l_joint6">
    <implicitSpringDamper>1</implicitSpringDamper>
  </gazebo>
  <transmission name="leg_l_joint6_trans">
    <type>transmission_interface/SimpleTransmission</type>
    <joint name="leg_l_joint6">
      <hardwareInterface>hardware_interface/PositionJointInterface</hardwareInterface>
    </joint>
    <actuator name="leg_l_joint6_motor">
      <hardwareInterface>hardware_interface/PositionJointInterface</hardwareInterface>
      <mechanicalReduction>1</mechanicalReduction>
    </actuator>
  </transmission>
  <gazebo reference="leg_l_joint7">
    <implicitSpringDamper>1</implicitSpringDamper>
  </gazebo>
  <transmission name="leg_l_joint7_trans">
    <type>transmission_interface/SimpleTransmission</type>
    <joint name="leg_l_joint7">
      <hardwareInterface>hardware_interface/PositionJointInterface</hardwareInterface>
    </joint>
    <actuator name="leg_l_joint7_motor">
      <hardwareInterface>hardware_interface/PositionJointInterface</hardwareInterface>
      <mechanicalReduction>1</mechanicalReduction>
    </actuator>
  </transmission>
  <gazebo reference="leg_l_joint8">
    <implicitSpringDamper>1</implicitSpringDamper>
  </gazebo>
  <transmission name="leg_l_joint8_trans">
    <type>transmission_interface/SimpleTransmission</type>
    <joint name="leg_l_joint8">
      <hardwareInterface>hardware_interface/PositionJointInterface</hardwareInterface>
    </joint>
    <actuator name="leg_l_joint8_motor">
      <hardwareInterface>hardware_interface/PositionJointInterface</hardwareInterface>
      <mechanicalReduction>1</mechanicalReduction>
    </actuator>
  </transmission>
  <!-- shoulder pitch. -->
  <joint name="arm_r_joint0" type="revolute">
    <parent link="body_link0"/>
    <child link="arm_r_link0"/>
    <origin rpy="0 0.3927 0" xyz="0 -0.10683 0.05115"/>
    <axis xyz="0 1 0"/>
    <limit effort="1000.0" lower="-2.6" upper="2.6" velocity="10.0"/>
    <dynamics damping="0.1" friction="0.1"/>
  </joint>
  <link name="arm_r_link0">
    <collision>
      <origin rpy="0 0 0" xyz="0 0 0"/>
      <geometry>
        <mesh filename="package://ginko_description/meshes/ginko_rs406/stl/link09_r_arm01.stl"/>
      </geometry>
    </collision>
    <visual>
      <origin rpy="0 0 0" xyz="0 0 0"/>
      <geometry>
        <mesh filename="package://ginko_description/meshes/ginko_rs406/obj/link09_r_arm01.obj"/>
      </geometry>
    </visual>
    <inertial>
      <mass value="0.01356014"/>
      <origin rpy="0 0 0" xyz="-0.01125790 -0.00529265 0.00000000"/>
      <inertia ixx="0.00000235" ixy="-0.00000004" ixz="0.00000000" iyy="0.00001670" iyz="0.00000000" izz="0.00001606"/>
    </inertial>
  </link>
  <!-- shoulder roll -->
  <joint name="arm_r_joint1" type="revolute">
    <parent link="arm_r_link0"/>
    <child link="arm_r_link1"/>
    <origin rpy="-1.1781 0 0" xyz="0.035 -0.0246 0"/>
    <axis xyz="1 0 0"/>
    <limit effort="1000.0" lower="-1.6" upper="1.18" velocity="10.0"/>
    <dynamics damping="0.1" friction="0.1"/>
  </joint>
  <link name="arm_r_link1">
    <collision>
      <origin rpy="0 0 0" xyz="0 0 0"/>
      <geometry>
        <mesh filename="package://ginko_description/meshes/ginko_rs406/stl/link10_r_arm02.stl"/>
      </geometry>
    </collision>
    <visual>
      <origin rpy="0 0 0" xyz="0 0 0"/>
      <geometry>
        <mesh filename="package://ginko_description/meshes/ginko_rs406/obj/link10_r_arm02.obj"/>
      </geometry>
    </visual>
    <inertial>
      <mass value="0.33139947"/>
      <origin rpy="0 0 0" xyz="-0.02612786 -0.02650564 -0.06333369"/>
      <inertia ixx="0.00115128" ixy="-0.00015366" ixz="-0.00031848" iyy="0.00113572" iyz="0.00037104" izz="0.00064743"/>
    </inertial>
  </link>
  <joint name="arm_r_joint1_rev" type="revolute">
    <parent link="arm_r_link0"/>
    <child link="dummy0_arm_r_link1"/>
    <origin rpy="-1.1781 0 0" xyz="-0.0562 -0.0246 0"/>
    <axis xyz="-1 0 0"/>
    <limit effort="1000.0" lower="-1.18" upper="1.6" velocity="10.0"/>
    <dynamics damping="0.0" friction="0.0"/>
  </joint>
  <link name="dummy0_arm_r_link1">
    <inertial>
      <mass value="0.00001"/>
      <origin rpy="0 0 0" xyz="-0.0912 0 0"/>
      <inertia ixx="0.00000001" ixy="0.00000000" ixz="0.00000000" iyy="0.00000001" iyz="0.00000000" izz="0.00000001"/>
    </inertial>
  </link>
  <!-- scissors -->
  <joint name="arm_r_joint2" type="revolute">
    <parent link="arm_r_link1"/>
    <child link="arm_r_link2"/>
    <origin rpy="0 0.7854 0" xyz="0.0092 -0.0547 -0.11295"/>
    <axis xyz="0 -1 0"/>
    <limit effort="1000.0" lower="-2.36" upper="2.36" velocity="10.0"/>
    <dynamics damping="0.1" friction="0.1"/>
  </joint>
  <link name="arm_r_link2">
    <collision>
      <origin rpy="0 0 0" xyz="0 0 0"/>
      <geometry>
        <mesh filename="package://ginko_description/meshes/ginko_rs406/stl/link11_r_scissor01.stl"/>
      </geometry>
    </collision>
    <visual>
      <origin rpy="0 0 0" xyz="0 0 0"/>
      <geometry>
        <mesh filename="package://ginko_description/meshes/ginko_rs406/obj/link11_r_scissor01.obj"/>
      </geometry>
    </visual>
    <inertial>
      <mass value="0.03287850"/>
      <origin rpy="0 0 0" xyz="0.08234859 0.030246866 0.00514112"/>
      <inertia ixx="0.00002277" ixy="0.00000014" ixz="-0.00000058" iyy="0.00008197" iyz="0.00000001" izz="0.00010105"/>
    </inertial>
  </link>
  <joint name="arm_r_joint3" type="revolute">
    <parent link="arm_r_link1"/>
    <child link="arm_r_link3"/>
    <origin rpy="0 0.7854 0" xyz="0.0092 0.0018 -0.11295"/>
    <axis xyz="0 -1 0"/>
    <limit effort="1000.0" lower="-2.36" upper="2.36" velocity="10.0"/>
    <dynamics damping="0.1" friction="0.1"/>
  </joint>
  <link name="arm_r_link3">
    <collision>
      <origin rpy="0 0 0" xyz="0 0 0"/>
      <geometry>
        <mesh filename="package://ginko_description/meshes/ginko_rs406/stl/link12_r_scissor02.stl"/>
      </geometry>
    </collision>
    <visual>
      <origin rpy="0 0 0" xyz="0 0 0"/>
      <geometry>
        <mesh filename="package://ginko_description/meshes/ginko_rs406/obj/link12_r_scissor02.obj"/>
      </geometry>
    </visual>
    <inertial>
      <mass value="0.02936110"/>
      <origin rpy="0 0 0" xyz="0.07807033 -0.02515230 -0.00665437"/>
      <inertia ixx="0.00001452" ixy="-0.00000023" ixz="-0.00000245" iyy="0.00006407" iyz="0.00000002" izz="0.00008024"/>
    </inertial>
  </link>
  <joint name="arm_r_urg_joint" type="fixed">
    <parent link="arm_r_link1"/>
    <child link="arm_r_urg_link"/>
    <origin rpy="0 1.57 1.57" xyz="-0.0456 0.01715 -0.06795"/>
  </joint>
  <link name="arm_r_urg_link">
    <collision>
      <origin rpy="0 0 0" xyz="0 0 0"/>
      <geometry>
        <mesh filename="package://ginko_description/meshes/ginko_rs406/stl/urg.stl"/>
      </geometry>
    </collision>
    <visual>
      <origin rpy="0 0 0" xyz="0 0 0"/>
      <geometry>
        <mesh filename="package://ginko_description/meshes/ginko_rs406/obj/urg.obj"/>
      </geometry>
    </visual>
    <inertial>
      <mass value="0.16705492"/>
      <origin rpy="0 0 0" xyz="-0.00014579 0.00000831 -0.02360505"/>
      <inertia ixx="0.00008801" ixy="0.00000000" ixz="-0.00000049" iyy="0.00008854" iyz="-0.00000004" izz="0.00006019"/>
    </inertial>
  </link>
  <gazebo reference="arm_r_link0">
    <kp>1000000.0</kp>
    <kd>100.0</kd>
    <mu1>0.1</mu1>
    <maxVel>10.0</maxVel>
    <minDepth>0.0001</minDepth>
    <maxContacts>6</maxContacts>
    <selfCollide>false</selfCollide>
    <dampingFactor>0.00</dampingFactor>
  </gazebo>
  <gazebo reference="arm_r_link1">
    <kp>1000000.0</kp>
    <kd>100.0</kd>
    <mu1>0.1</mu1>
    <maxVel>10.0</maxVel>
    <minDepth>0.0001</minDepth>
    <maxContacts>6</maxContacts>
    <selfCollide>false</selfCollide>
    <dampingFactor>0.00</dampingFactor>
  </gazebo>
  <gazebo reference="arm_r_link2">
    <kp>1000000.0</kp>
    <kd>100.0</kd>
    <mu1>0.1</mu1>
    <maxVel>10.0</maxVel>
    <minDepth>0.0001</minDepth>
    <maxContacts>6</maxContacts>
    <selfCollide>false</selfCollide>
    <dampingFactor>0.00</dampingFactor>
  </gazebo>
  <gazebo reference="arm_r_link3">
    <kp>1000000.0</kp>
    <kd>100.0</kd>
    <mu1>0.1</mu1>
    <maxVel>10.0</maxVel>
    <minDepth>0.0001</minDepth>
    <maxContacts>6</maxContacts>
    <selfCollide>false</selfCollide>
    <dampingFactor>0.00</dampingFactor>
  </gazebo>
  <gazebo reference="arm_r_joint0">
    <implicitSpringDamper>1</implicitSpringDamper>
  </gazebo>
  <transmission name="arm_r_joint0_trans">
    <type>transmission_interface/SimpleTransmission</type>
    <joint name="arm_r_joint0">
      <hardwareInterface>hardware_interface/PositionJointInterface</hardwareInterface>
    </joint>
    <actuator name="arm_r_joint0_motor">
      <hardwareInterface>hardware_interface/PositionJointInterface</hardwareInterface>
      <mechanicalReduction>1</mechanicalReduction>
    </actuator>
  </transmission>
  <gazebo reference="arm_r_joint1">
    <implicitSpringDamper>1</implicitSpringDamper>
  </gazebo>
  <transmission name="arm_r_joint1_trans">
    <type>transmission_interface/SimpleTransmission</type>
    <joint name="arm_r_joint1">
      <hardwareInterface>hardware_interface/PositionJointInterface</hardwareInterface>
    </joint>
    <actuator name="arm_r_joint1_motor">
      <hardwareInterface>hardware_interface/PositionJointInterface</hardwareInterface>
      <mechanicalReduction>1</mechanicalReduction>
    </actuator>
  </transmission>
  <gazebo reference="arm_r_joint1_rev">
    <implicitSpringDamper>1</implicitSpringDamper>
  </gazebo>
  <transmission name="arm_r_joint1_rev_trans">
    <type>transmission_interface/SimpleTransmission</type>
    <joint name="arm_r_joint1_rev">
      <hardwareInterface>hardware_interface/PositionJointInterface</hardwareInterface>
    </joint>
    <actuator name="arm_r_joint1_rev_motor">
      <hardwareInterface>hardware_interface/PositionJointInterface</hardwareInterface>
      <mechanicalReduction>1</mechanicalReduction>
    </actuator>
  </transmission>
  <gazebo reference="arm_r_joint2">
    <implicitSpringDamper>1</implicitSpringDamper>
  </gazebo>
  <transmission name="arm_r_joint2_trans">
    <type>transmission_interface/SimpleTransmission</type>
    <joint name="arm_r_joint2">
      <hardwareInterface>hardware_interface/PositionJointInterface</hardwareInterface>
    </joint>
    <actuator name="arm_r_joint2_motor">
      <hardwareInterface>hardware_interface/PositionJointInterface</hardwareInterface>
      <mechanicalReduction>1</mechanicalReduction>
    </actuator>
  </transmission>
  <gazebo reference="arm_r_joint3">
    <implicitSpringDamper>1</implicitSpringDamper>
  </gazebo>
  <transmission name="arm_r_joint3_trans">
    <type>transmission_interface/SimpleTransmission</type>
    <joint name="arm_r_joint3">
      <hardwareInterface>hardware_interface/PositionJointInterface</hardwareInterface>
    </joint>
    <actuator name="arm_r_joint3_motor">
      <hardwareInterface>hardware_interface/PositionJointInterface</hardwareInterface>
      <mechanicalReduction>1</mechanicalReduction>
    </actuator>
  </transmission>
  <!-- shoulder pitch. -->
  <joint name="arm_l_joint0" type="revolute">
    <parent link="body_link0"/>
    <child link="arm_l_link0"/>
    <origin rpy="0 0.3927 0" xyz="0 0.10683 0.05115"/>
    <axis xyz="0 -1 0"/>
    <limit effort="1000.0" lower="-2.6" upper="2.6" velocity="10.0"/>
    <dynamics damping="0.1" friction="0.1"/>
  </joint>
  <link name="arm_l_link0">
    <collision>
      <origin rpy="0 0 0" xyz="0 0 0"/>
      <geometry>
        <mesh filename="package://ginko_description/meshes/ginko_rs406/stl/link09_l_arm01.stl"/>
      </geometry>
    </collision>
    <visual>
      <origin rpy="0 0 0" xyz="0 0 0"/>
      <geometry>
        <mesh filename="package://ginko_description/meshes/ginko_rs406/obj/link09_l_arm01.obj"/>
      </geometry>
    </visual>
    <inertial>
      <mass value="0.01356014"/>
      <origin rpy="0 0 0" xyz="-0.01125790 0.00529265 0.00000000"/>
      <inertia ixx="0.00000235" ixy="0.00000004" ixz="0.00000000" iyy="0.00001670" iyz="0.00000000" izz="0.00001606"/>
    </inertial>
  </link>
  <!-- shoulder roll -->
  <joint name="arm_l_joint1" type="revolute">
    <parent link="arm_l_link0"/>
    <child link="arm_l_link1"/>
    <origin rpy="1.1781 0 0" xyz="0.035 0.0246 0"/>
    <axis xyz="1 0 0"/>
    <limit effort="1000.0" lower="-1.18" upper="1.6" velocity="10.0"/>
    <dynamics damping="0.1" friction="0.1"/>
  </joint>
  <link name="arm_l_link1">
    <collision>
      <origin rpy="0 0 0" xyz="0 0 0"/>
      <geometry>
        <mesh filename="package://ginko_description/meshes/ginko_rs406/stl/link10_l_arm02.stl"/>
      </geometry>
    </collision>
    <visual>
      <origin rpy="0 0 0" xyz="0 0 0"/>
      <geometry>
        <mesh filename="package://ginko_description/meshes/ginko_rs406/obj/link10_l_arm02.obj"/>
      </geometry>
    </visual>
    <inertial>
      <mass value="0.33139947"/>
      <origin rpy="0 0 0" xyz="-0.02612786 0.02650564 -0.06333369"/>
      <inertia ixx="0.00115128" ixy="0.00015366" ixz="-0.00031848" iyy="0.00113572" iyz="-0.00037104" izz="0.00064743"/>
    </inertial>
  </link>
  <joint name="arm_l_joint1_rev" type="revolute">
    <parent link="arm_l_link0"/>
    <child link="dummy0_arm_l_link1"/>
    <origin rpy="1.1781 0 0" xyz="-0.0562 0.0246 0"/>
    <axis xyz="-1 0 0"/>
    <limit effort="1000.0" lower="-1.6" upper="1.18" velocity="10.0"/>
    <dynamics damping="0.0" friction="0.0"/>
  </joint>
  <link name="dummy0_arm_l_link1">
    <inertial>
      <mass value="0.00001"/>
      <origin rpy="0 0 0" xyz="-0.0912 0 0"/>
      <inertia ixx="0.00000001" ixy="0.00000000" ixz="0.00000000" iyy="0.00000001" iyz="0.00000000" izz="0.00000001"/>
    </inertial>
  </link>
  <!-- scissors -->
  <joint name="arm_l_joint2" type="revolute">
    <parent link="arm_l_link1"/>
    <child link="arm_l_link2"/>
    <origin rpy="0 0.7854 0" xyz="0.0092 0.0547 -0.11295"/>
    <axis xyz="0 1 0"/>
    <limit effort="1000.0" lower="-2.36" upper="2.36" velocity="10.0"/>
    <dynamics damping="0.1" friction="0.1"/>
  </joint>
  <link name="arm_l_link2">
    <collision>
      <origin rpy="0 0 0" xyz="0 0 0"/>
      <geometry>
        <mesh filename="package://ginko_description/meshes/ginko_rs406/stl/link11_l_scissor01.stl"/>
      </geometry>
    </collision>
    <visual>
      <origin rpy="0 0 0" xyz="0 0 0"/>
      <geometry>
        <mesh filename="package://ginko_description/meshes/ginko_rs406/obj/link11_l_scissor01.obj"/>
      </geometry>
    </visual>
    <inertial>
      <mass value="0.03287850"/>
      <origin rpy="0 0 0" xyz="0.08234859 -0.030246866 0.00514112"/>
      <inertia ixx="0.00002277" ixy="-0.00000014" ixz="-0.00000058" iyy="0.00008197" iyz="-0.00000001" izz="0.00010105"/>
    </inertial>
  </link>
  <joint name="arm_l_joint3" type="revolute">
    <parent link="arm_l_link1"/>
    <child link="arm_l_link3"/>
    <origin rpy="0 0.7854 0" xyz="0.0092 -0.0018 -0.11295"/>
    <axis xyz="0 1 0"/>
    <limit effort="1000.0" lower="-2.36" upper="2.36" velocity="10.0"/>
    <dynamics damping="0.1" friction="0.1"/>
  </joint>
  <link name="arm_l_link3">
    <collision>
      <origin rpy="0 0 0" xyz="0 0 0"/>
      <geometry>
        <mesh filename="package://ginko_description/meshes/ginko_rs406/stl/link12_l_scissor02.stl"/>
      </geometry>
    </collision>
    <visual>
      <origin rpy="0 0 0" xyz="0 0 0"/>
      <geometry>
        <mesh filename="package://ginko_description/meshes/ginko_rs406/obj/link12_l_scissor02.obj"/>
      </geometry>
    </visual>
    <inertial>
      <mass value="0.02936110"/>
      <origin rpy="0 0 0" xyz="0.07807033 0.02515230 -0.00665437"/>
      <inertia ixx="0.00001452" ixy="0.00000023" ixz="-0.00000245" iyy="0.00006407" iyz="-0.00000002" izz="0.00008024"/>
    </inertial>
  </link>
  <joint name="arm_l_urg_joint" type="fixed">
    <parent link="arm_l_link1"/>
    <child link="arm_l_urg_link"/>
    <origin rpy="0 1.57 -1.57" xyz="-0.0456 -0.01715 -0.06795"/>
  </joint>
  <link name="arm_l_urg_link">
    <collision>
      <origin rpy="0 0 0" xyz="0 0 0"/>
      <geometry>
        <mesh filename="package://ginko_description/meshes/ginko_rs406/stl/urg.stl"/>
      </geometry>
    </collision>
    <visual>
      <origin rpy="0 0 0" xyz="0 0 0"/>
      <geometry>
        <mesh filename="package://ginko_description/meshes/ginko_rs406/obj/urg.obj"/>
      </geometry>
    </visual>
    <inertial>
      <mass value="0.16705492"/>
      <origin rpy="0 0 0" xyz="-0.00014579 0.00000831 -0.02360505"/>
      <inertia ixx="0.00008801" ixy="0.00000000" ixz="-0.00000049" iyy="0.00008854" iyz="-0.00000004" izz="0.00006019"/>
    </inertial>
  </link>
  <gazebo reference="arm_l_link0">
    <kp>1000000.0</kp>
    <kd>100.0</kd>
    <mu1>0.1</mu1>
    <maxVel>10.0</maxVel>
    <minDepth>0.0001</minDepth>
    <maxContacts>6</maxContacts>
    <selfCollide>false</selfCollide>
    <dampingFactor>0.00</dampingFactor>
  </gazebo>
  <gazebo reference="arm_l_link1">
    <kp>1000000.0</kp>
    <kd>100.0</kd>
    <mu1>0.1</mu1>
    <maxVel>10.0</maxVel>
    <minDepth>0.0001</minDepth>
    <maxContacts>6</maxContacts>
    <selfCollide>false</selfCollide>
    <dampingFactor>0.00</dampingFactor>
  </gazebo>
  <gazebo reference="arm_l_link2">
    <kp>1000000.0</kp>
    <kd>100.0</kd>
    <mu1>0.1</mu1>
    <maxVel>10.0</maxVel>
    <minDepth>0.0001</minDepth>
    <maxContacts>6</maxContacts>
    <selfCollide>false</selfCollide>
    <dampingFactor>0.00</dampingFactor>
  </gazebo>
  <gazebo reference="arm_l_link3">
    <kp>1000000.0</kp>
    <kd>100.0</kd>
    <mu1>0.1</mu1>
    <maxVel>10.0</maxVel>
    <minDepth>0.0001</minDepth>
    <maxContacts>6</maxContacts>
    <selfCollide>false</selfCollide>
    <dampingFactor>0.00</dampingFactor>
  </gazebo>
  <gazebo reference="arm_l_joint0">
    <implicitSpringDamper>1</implicitSpringDamper>
  </gazebo>
  <transmission name="arm_l_joint0_trans">
    <type>transmission_interface/SimpleTransmission</type>
    <joint name="arm_l_joint0">
      <hardwareInterface>hardware_interface/PositionJointInterface</hardwareInterface>
    </joint>
    <actuator name="arm_l_joint0_motor">
      <hardwareInterface>hardware_interface/PositionJointInterface</hardwareInterface>
      <mechanicalReduction>1</mechanicalReduction>
    </actuator>
  </transmission>
  <gazebo reference="arm_l_joint1">
    <implicitSpringDamper>1</implicitSpringDamper>
  </gazebo>
  <transmission name="arm_l_joint1_trans">
    <type>transmission_interface/SimpleTransmission</type>
    <joint name="arm_l_joint1">
      <hardwareInterface>hardware_interface/PositionJointInterface</hardwareInterface>
    </joint>
    <actuator name="arm_l_joint1_motor">
      <hardwareInterface>hardware_interface/PositionJointInterface</hardwareInterface>
      <mechanicalReduction>1</mechanicalReduction>
    </actuator>
  </transmission>
  <gazebo reference="arm_l_joint1_rev">
    <implicitSpringDamper>1</implicitSpringDamper>
  </gazebo>
  <transmission name="arm_l_joint1_rev_trans">
    <type>transmission_interface/SimpleTransmission</type>
    <joint name="arm_l_joint1_rev">
      <hardwareInterface>hardware_interface/PositionJointInterface</hardwareInterface>
    </joint>
    <actuator name="arm_l_joint1_rev_motor">
      <hardwareInterface>hardware_interface/PositionJointInterface</hardwareInterface>
      <mechanicalReduction>1</mechanicalReduction>
    </actuator>
  </transmission>
  <gazebo reference="arm_l_joint2">
    <implicitSpringDamper>1</implicitSpringDamper>
  </gazebo>
  <transmission name="arm_l_joint2_trans">
    <type>transmission_interface/SimpleTransmission</type>
    <joint name="arm_l_joint2">
      <hardwareInterface>hardware_interface/PositionJointInterface</hardwareInterface>
    </joint>
    <actuator name="arm_l_joint2_motor">
      <hardwareInterface>hardware_interface/PositionJointInterface</hardwareInterface>
      <mechanicalReduction>1</mechanicalReduction>
    </actuator>
  </transmission>
  <gazebo reference="arm_l_joint3">
    <implicitSpringDamper>1</implicitSpringDamper>
  </gazebo>
  <transmission name="arm_l_joint3_trans">
    <type>transmission_interface/SimpleTransmission</type>
    <joint name="arm_l_joint3">
      <hardwareInterface>hardware_interface/PositionJointInterface</hardwareInterface>
    </joint>
    <actuator name="arm_l_joint3_motor">
      <hardwareInterface>hardware_interface/PositionJointInterface</hardwareInterface>
      <mechanicalReduction>1</mechanicalReduction>
    </actuator>
  </transmission>
  <gazebo>
    <plugin filename="libgazebo_dc_motor.so" name="gazebo_ros_control">
      <robotNamespace>ginko</robotNamespace>
      <robotSimType>gazebo_dc_motor/DefaultRobotHWSim</robotSimType>
      <legacyModeNS>false</legacyModeNS>
    </plugin>
  </gazebo>
  <link name="body_imu_attached_link"/>
  <joint name="body_imu_attached_joint" type="fixed">
    <parent link="body_link1"/>
    <child link="body_imu_attached_link"/>
    <origin rpy="0 1.5708 0" xyz="-0.09 0 -0.0379"/>
  </joint>
  <link name="body_imu_base_link"/>
  <joint name="imu_joint" type="fixed">
    <parent link="body_link1"/>
    <child link="body_imu_base_link"/>
    <origin rpy="0 0 0" xyz="-0.09 0 -0.0379"/>
  </joint>
  <gazebo>
    <plugin filename="libgazebo_ros_imu.so" name="imu_plugin">
      <alwaysOn>true</alwaysOn>
      <bodyName>body_imu_attached_link</bodyName>
      <topicName>/sensor/imu/raw/gazebo</topicName>
      <serviceName>gazebo_imu_service</serviceName>
      <gaussianNoise>0.0</gaussianNoise>
      <updateRate>400.0</updateRate>
    </plugin>
  </gazebo>
  <gazebo reference="arm_r_urg_link">
    <sensor name="urg_right" type="gpu_ray">
      <update_rate>10.0</update_rate>
      <pose>0 0 0 0 0 0</pose>
      <!-- <visualize>true</visualize> -->
      <ray>
        <scan>
          <horizontal>
            <samples>666</samples>
            <resolution>1</resolution>
            <min_angle>-2.094</min_angle>
            <max_angle>2.094</max_angle>
          </horizontal>
        </scan>
        <range>
          <min>0.02</min>
          <max>5.6</max>
          <resolution>0.001</resolution>
        </range>
        <noise>
          <type>gaussian</type>
          <mean>0.0</mean>
          <stddev>0.01</stddev>
        </noise>
      </ray>
      <plugin filename="libgazebo_ros_gpu_laser.so" name="urg_right_gazebo_plugin">
        <frameName>arm_r_urg_link</frameName>
        <topicName>/sensor/urg/right/scan_raw</topicName>
      </plugin>
    </sensor>
  </gazebo>
  <gazebo reference="arm_l_urg_link">
    <sensor name="urg_left" type="gpu_ray">
      <update_rate>10.0</update_rate>
      <pose>0 0 0 0 0 0</pose>
      <!-- <visualize>true</visualize> -->
      <ray>
        <scan>
          <horizontal>
            <samples>666</samples>
            <resolution>1</resolution>
            <min_angle>-2.094</min_angle>
            <max_angle>2.094</max_angle>
          </horizontal>
        </scan>
        <range>
          <min>0.02</min>
          <max>5.6</max>
          <resolution>0.001</resolution>
        </range>
        <noise>
          <type>gaussian</type>
          <mean>0.0</mean>
          <stddev>0.01</stddev>
        </noise>
      </ray>
      <plugin filename="libgazebo_ros_gpu_laser.so" name="urg_left_gazebo_plugin">
        <frameName>arm_l_urg_link</frameName>
        <topicName>/sensor/urg/left/scan_raw</topicName>
      </plugin>
    </sensor>
  </gazebo>
</robot>
